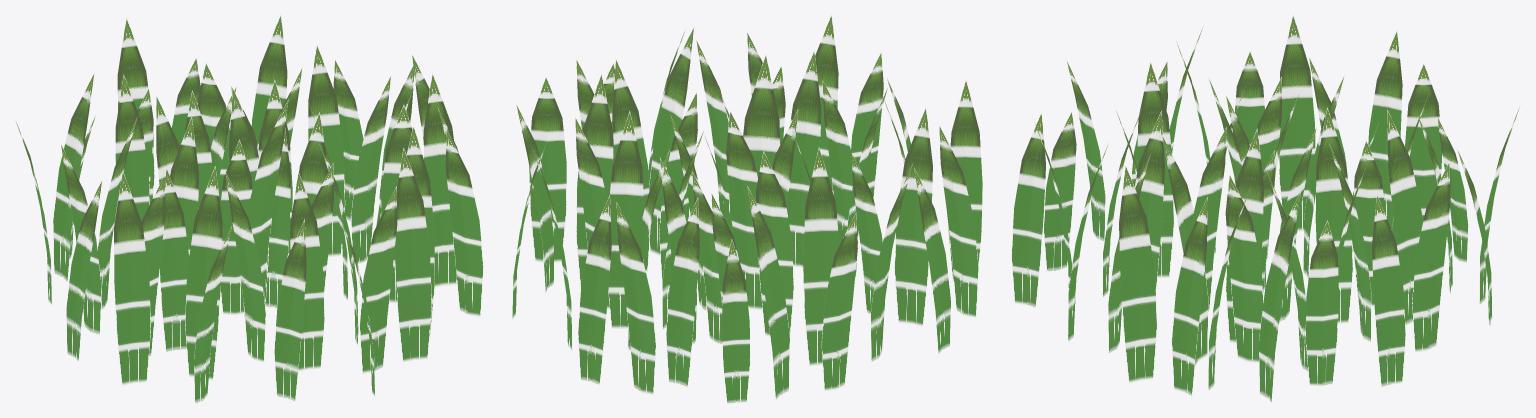
The model's file is grassface.fbx.
3 renders of one model, left to right at view 1: azimuth 30°, elevation 25°; view 2: azimuth 150°, elevation 25°; view 3: azimuth 270°, elevation 25°, orthographic. The views are drawn at different scales.
Parts seen in each view (by area): view 1: Grass_02_LOD0; view 2: Grass_02_LOD0; view 3: Grass_02_LOD0.
Boxes of the visible parts, left/top/right/bottom form: Grass_02_LOD0: left=15, top=14, right=483, bottom=403; Grass_02_LOD0: left=512, top=14, right=982, bottom=403; Grass_02_LOD0: left=1011, top=14, right=1520, bottom=403.
Size of what is drawn, in the model's own units: 72.16 by 40.1 by 79.84.
